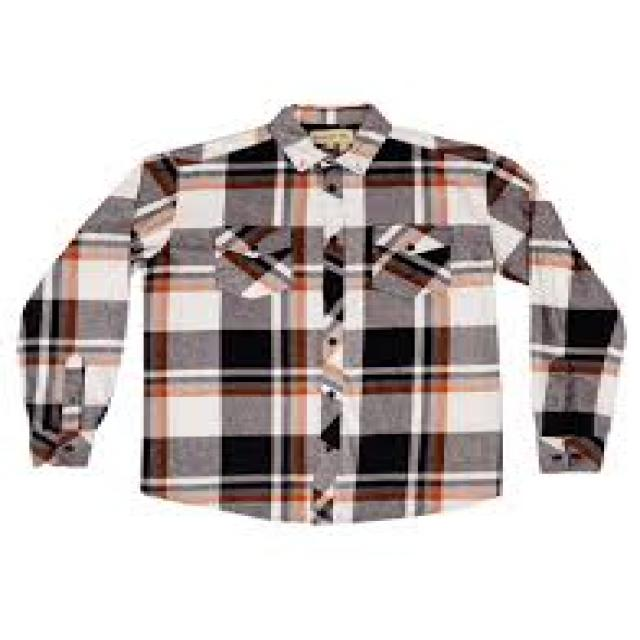plaid: (7, 95, 629, 525)
